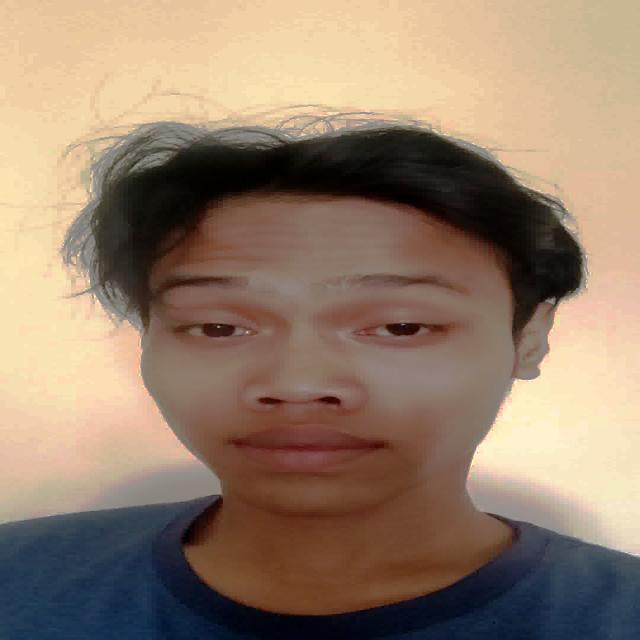TOPI: (95, 115, 580, 301)
